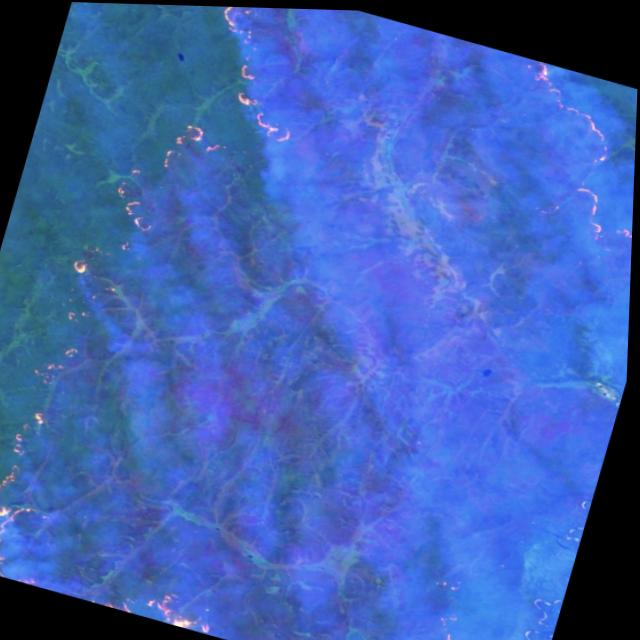fire: (7, 97, 233, 491), (0, 455, 252, 635), (481, 53, 639, 255), (177, 4, 342, 150), (373, 592, 473, 640)
